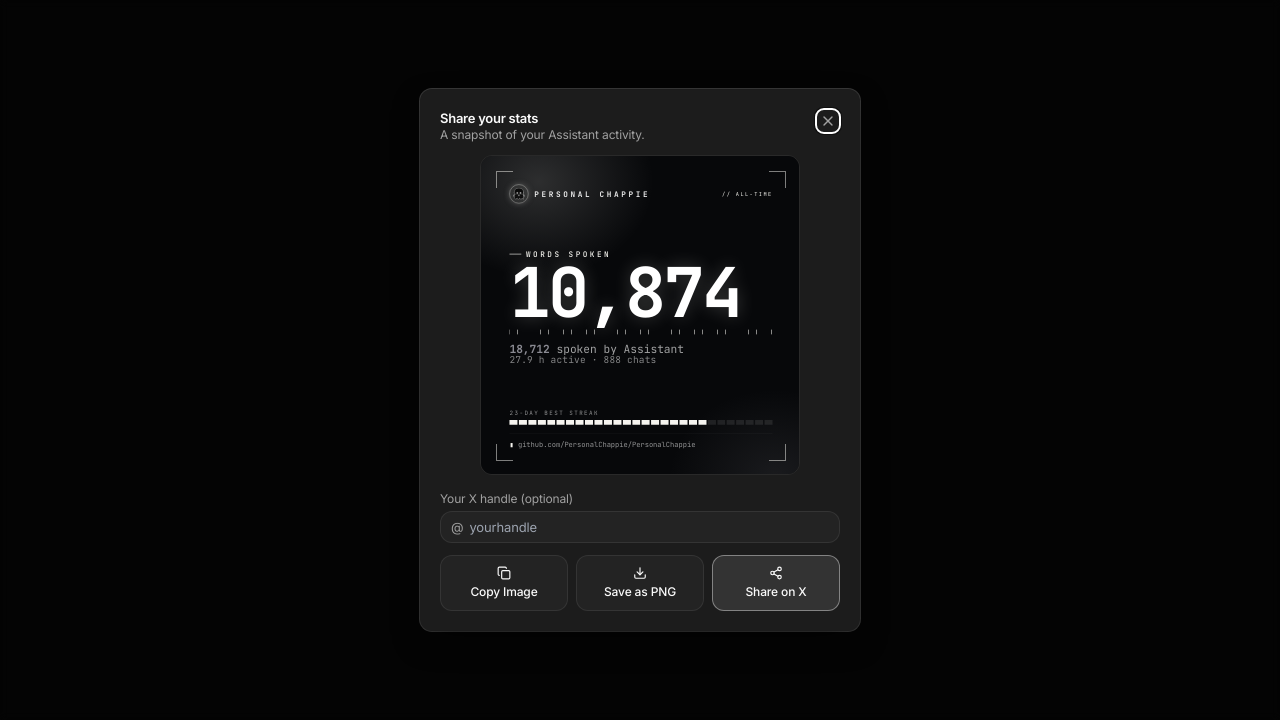
Test case: ShareDialog › persists the X handle to localStorage and renders it on the card
This screenshot has width=1280, height=720.
In the field with test id "share-handle-input": {"x": 646, "y": 527} top-left (463, 512), bottom-right (829, 542), type "@ruben"
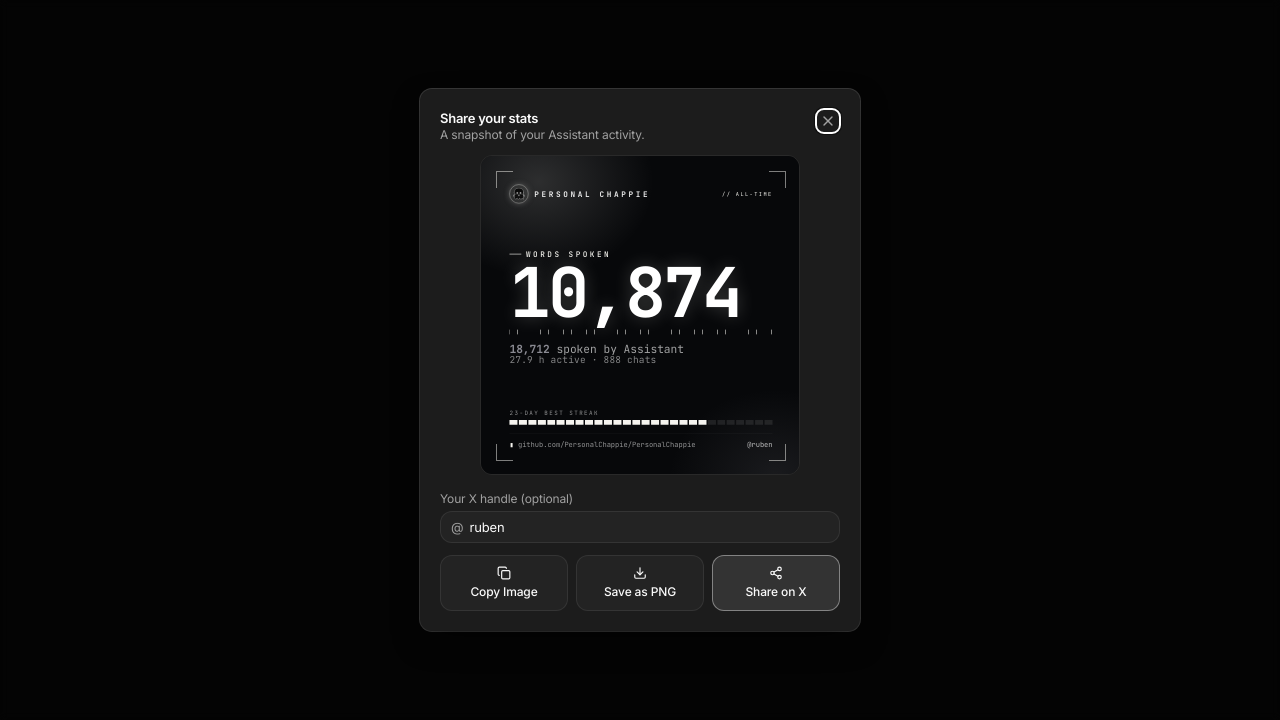
Result: the text "@ruben" is shown at top-left (747, 442), bottom-right (773, 448)
